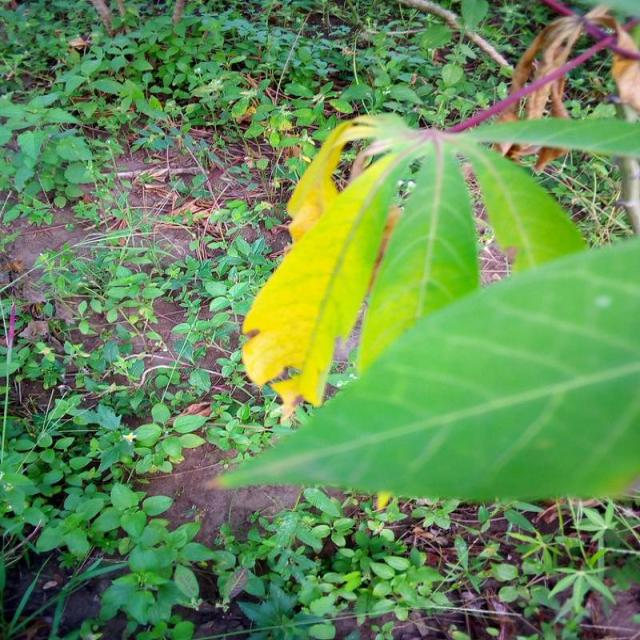cassava leaf: (206, 234, 640, 504), (240, 112, 590, 422), (240, 122, 413, 416), (355, 133, 480, 378)
